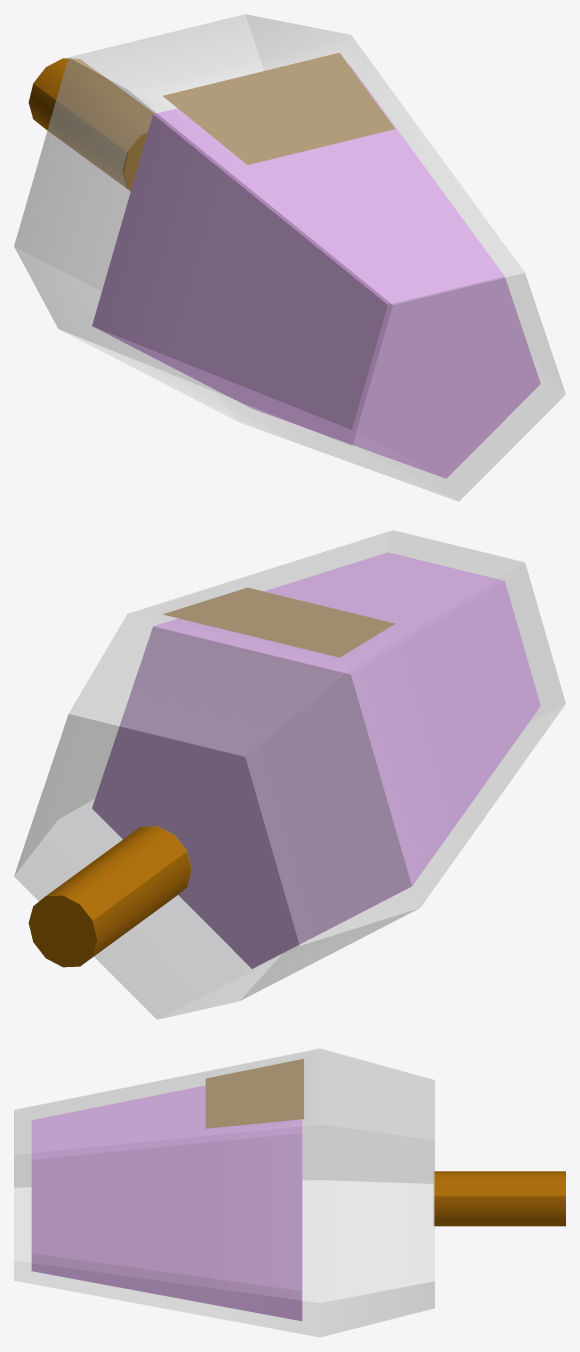
Rendered from Bottled Lup Binet.fbx.
3 renders of one model, top to bottom at view 1: azimuth 30°, elevation 25°; view 2: azimuth 150°, elevation 25°; view 3: azimuth 270°, elevation 25°, orthographic. The views are drawn at different scales.
Visible parts, largest first — view 1: Bottled Lup Binet; view 2: Bottled Lup Binet; view 3: Bottled Lup Binet.
Boxes of the visible parts, bbox=[...] form: Bottled Lup Binet: bbox=[14, 14, 565, 501]; Bottled Lup Binet: bbox=[14, 530, 565, 1019]; Bottled Lup Binet: bbox=[14, 1048, 565, 1337].
Size of the model in its own units: 30.43 by 28.94 by 57.69.
